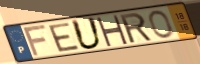E: (46, 21, 81, 53)
F: (22, 23, 48, 58)
H: (95, 14, 130, 47)
O: (148, 9, 175, 40)
R: (118, 12, 155, 45)
U: (70, 16, 104, 51)
